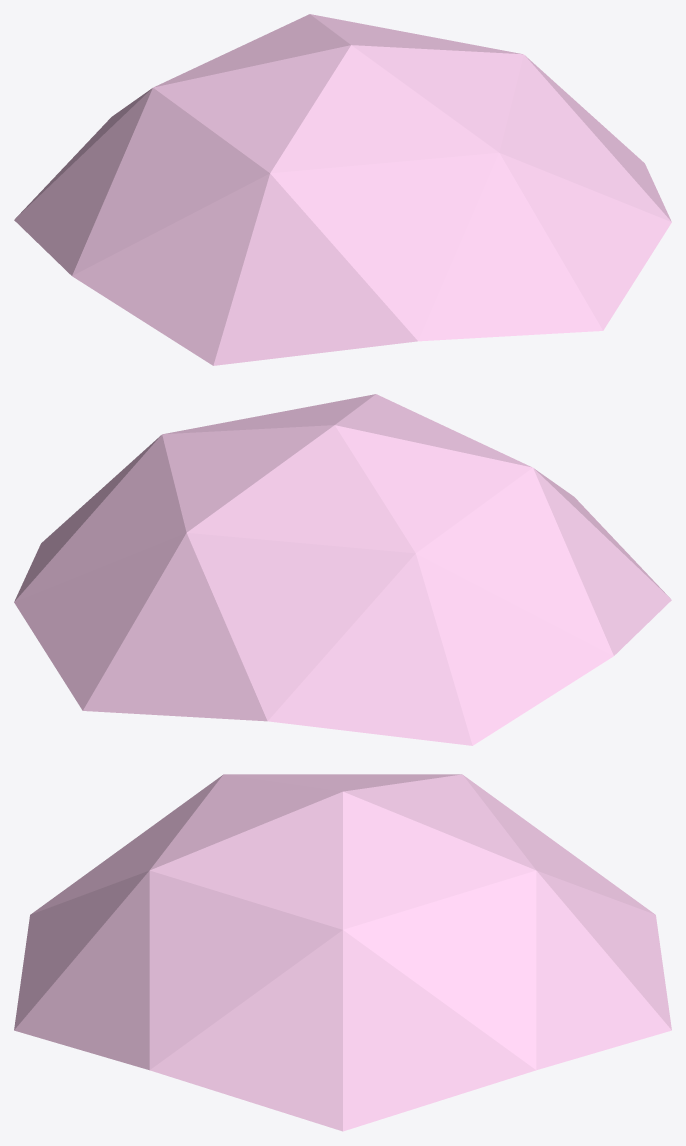
Rendered from Flip.fbx.
3 renders of one model, top to bottom at view 1: azimuth 30°, elevation 25°; view 2: azimuth 150°, elevation 25°; view 3: azimuth 270°, elevation 25°, orthographic. The views are drawn at different scales.
Parts seen in each view (by area): view 1: Big Tree; view 2: Big Tree; view 3: Big Tree.
Boxes of the visible parts, bbox=[...] form: Big Tree: bbox=[14, 14, 671, 365]; Big Tree: bbox=[14, 394, 671, 745]; Big Tree: bbox=[14, 774, 671, 1131].
Size of the model in its own units: 33500 by 10612 by 32660.
